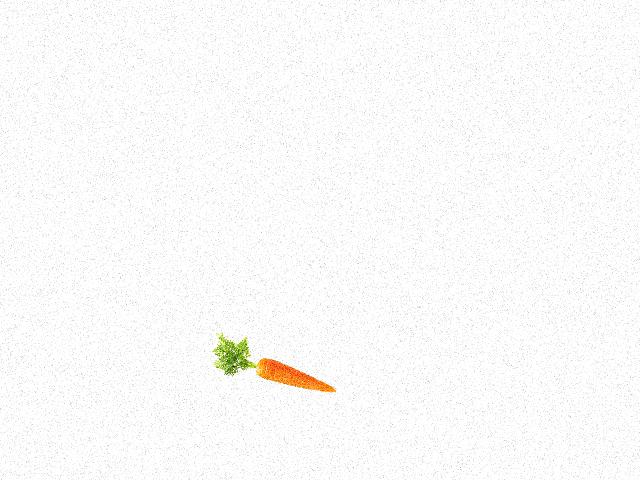carrot: (253, 356, 340, 395)
